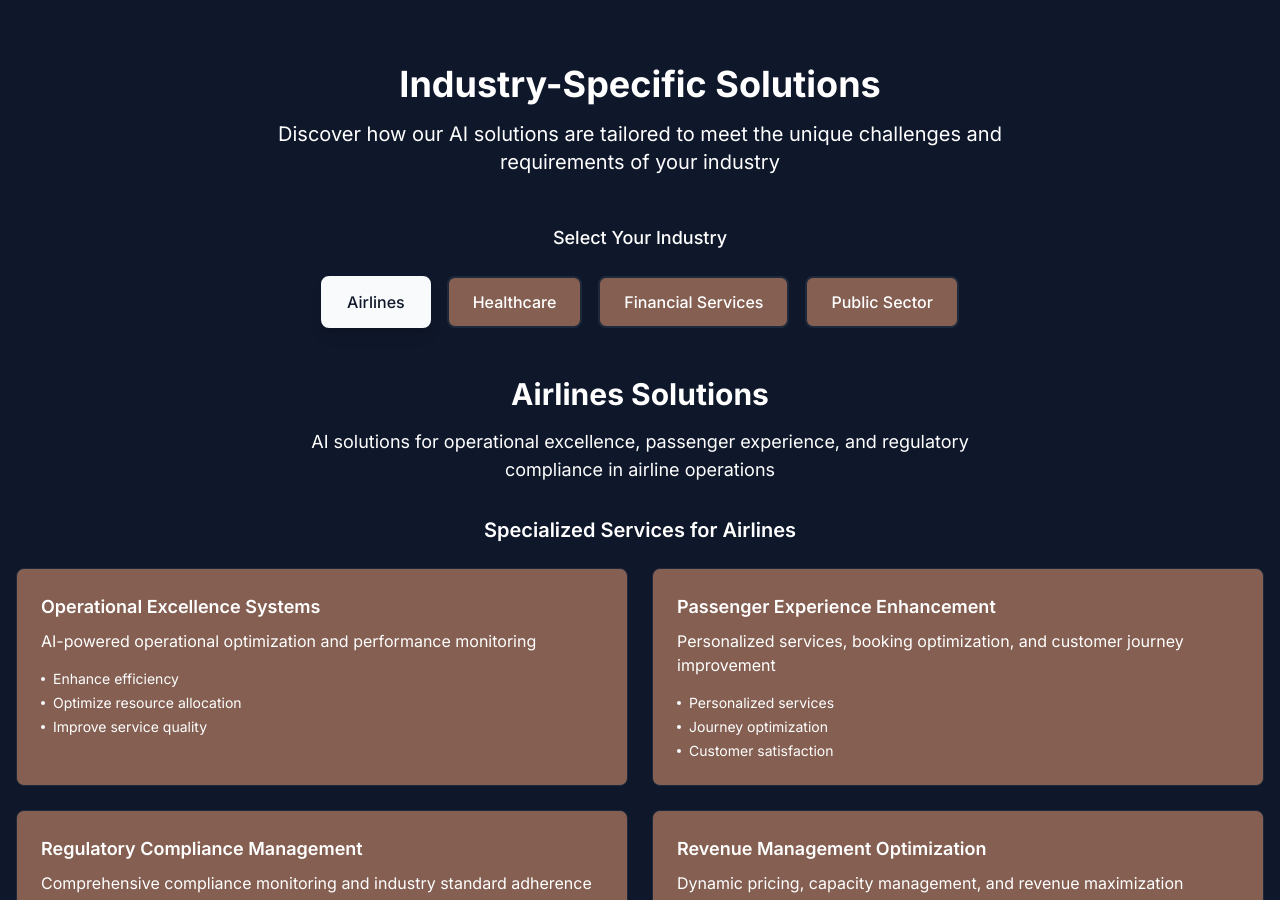
Test: IndustryVariantsSection › switches industry content when selector is clicked
This screenshot has width=1280, height=900.
Click on healthcare industry
Click the tab "Healthcare". click: [515, 302]
box: x1=447 y1=276 x2=582 y2=328
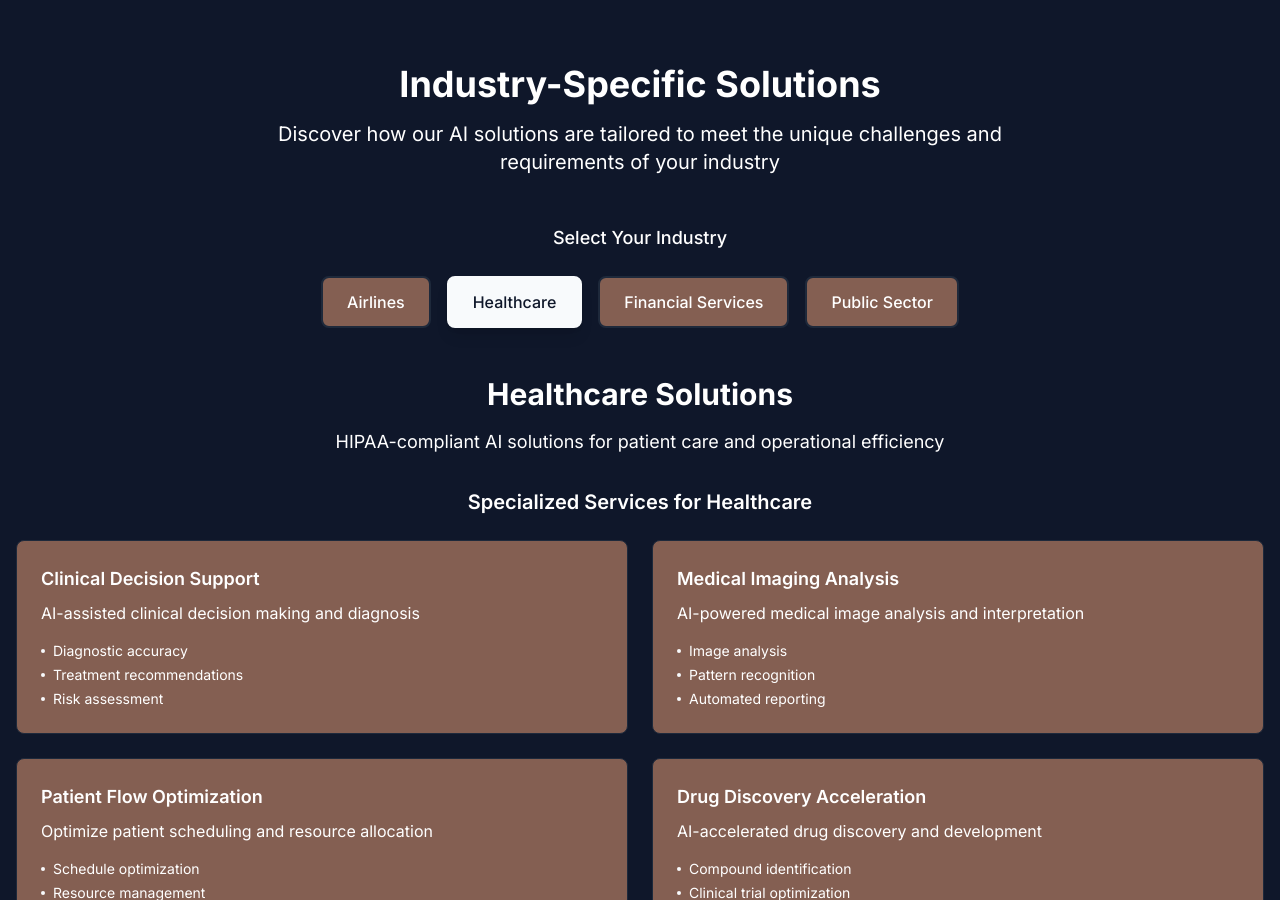
Now the heading "Healthcare Solutions" is shown, box x1=487 y1=376 x2=793 y2=412
